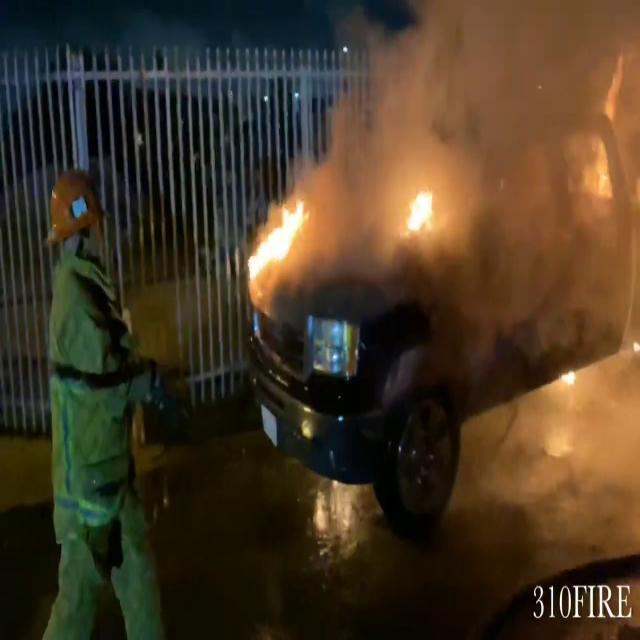Fire: (244, 185, 310, 289), (399, 178, 442, 241)
Smoke: (315, 0, 640, 249)
